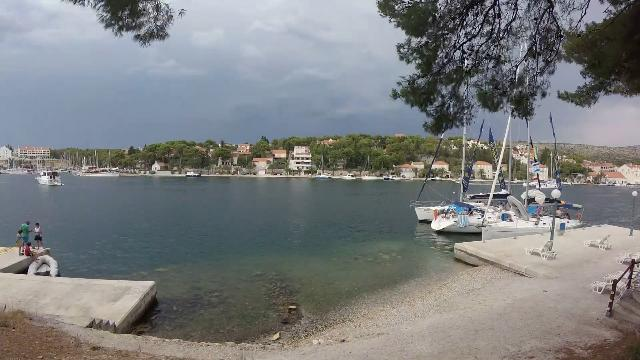ferry: (28, 166, 68, 190)
